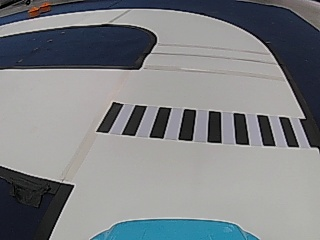CrossWalk: (93, 100, 308, 147)
